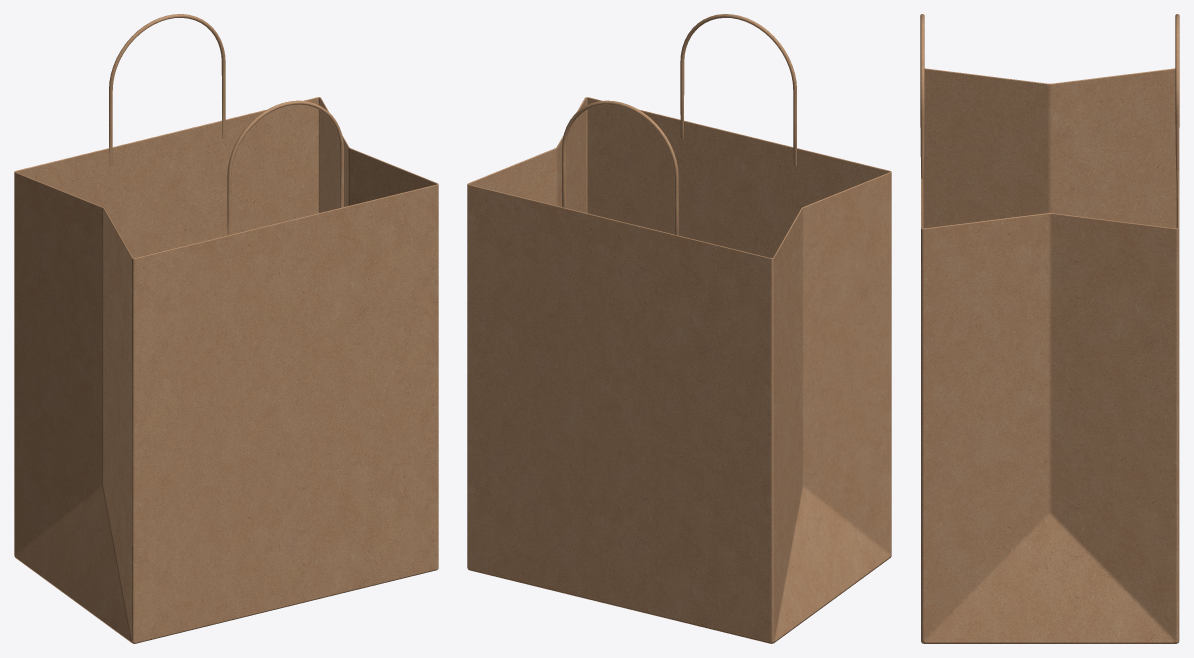
3 views of the same model, side by side, from view 1: azimuth 30°, elevation 25°; view 2: azimuth 150°, elevation 25°; view 3: azimuth 270°, elevation 25° (orthographic). The views are drawn at different scales.
Parts seen in each view (by area): view 1: 433BR10712C; view 2: 433BR10712C; view 3: 433BR10712C.
Boxes of the visible parts, x1=… form: 433BR10712C: x1=14, y1=14, x2=438, y2=643; 433BR10712C: x1=467, y1=14, x2=891, y2=643; 433BR10712C: x1=920, y1=14, x2=1179, y2=643.
Bounding box in the file's own units: 25.27 × 39.84 × 17.21.
Materials: 1 (1 with a texture image).
